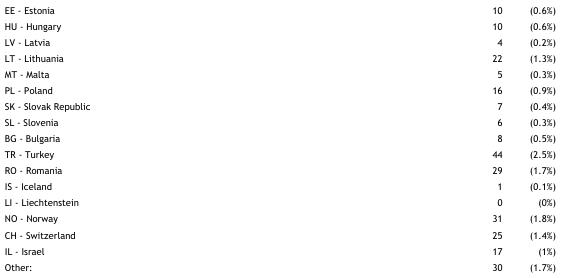table: (3, 4, 554, 271)
table column: (3, 4, 290, 271), (290, 4, 515, 271), (515, 4, 554, 271)
table row: (3, 161, 554, 178), (3, 17, 554, 33), (3, 33, 554, 49), (3, 49, 554, 65), (3, 65, 554, 81), (3, 81, 554, 97), (3, 97, 554, 113), (3, 113, 554, 129), (3, 129, 554, 145), (3, 145, 554, 161), (3, 178, 554, 194), (3, 194, 554, 210), (3, 210, 554, 226), (3, 226, 554, 242), (3, 242, 554, 258), (3, 4, 554, 17), (3, 258, 554, 271)
